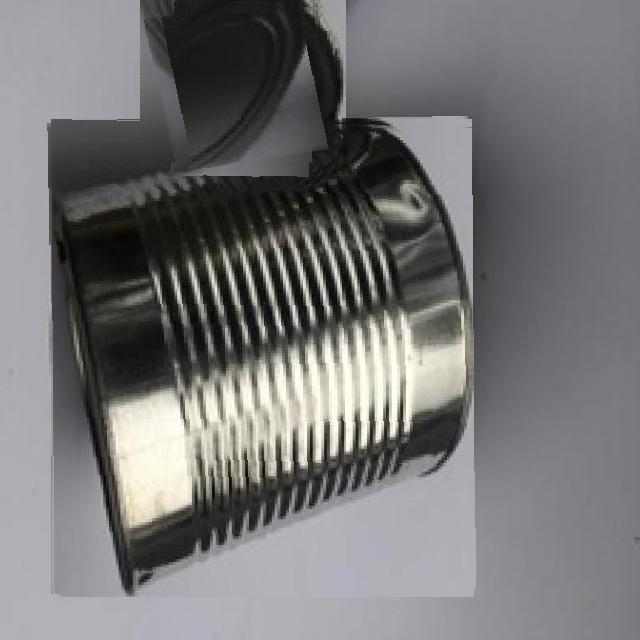recyclable: (49, 118, 474, 597), (150, 0, 335, 162)
